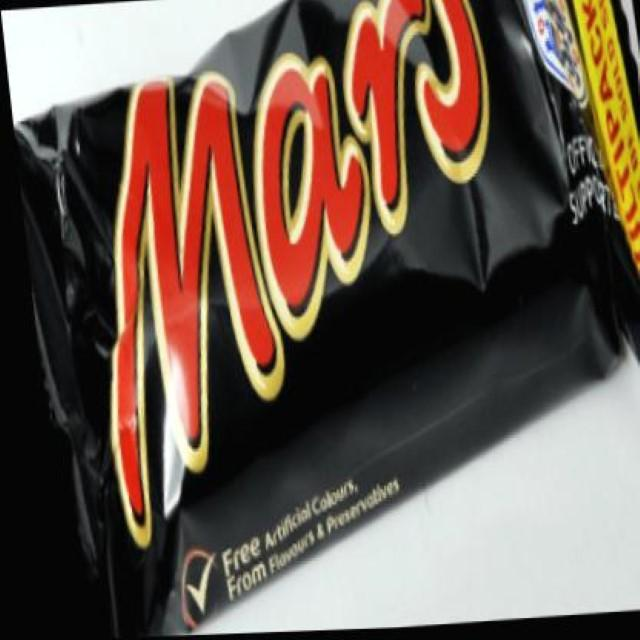mars_chocolate: (58, 0, 594, 578)
